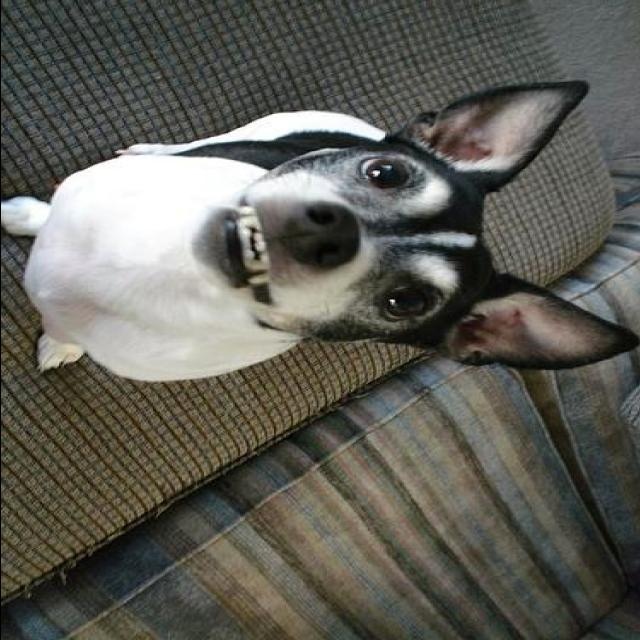toy_terrier: (2, 81, 640, 383)
